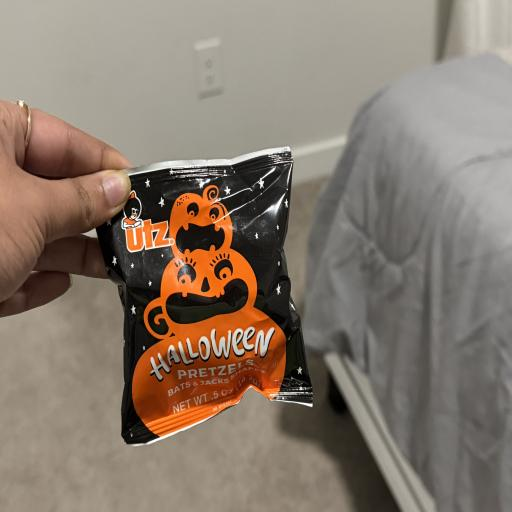chocolate: (97, 148, 312, 443)
